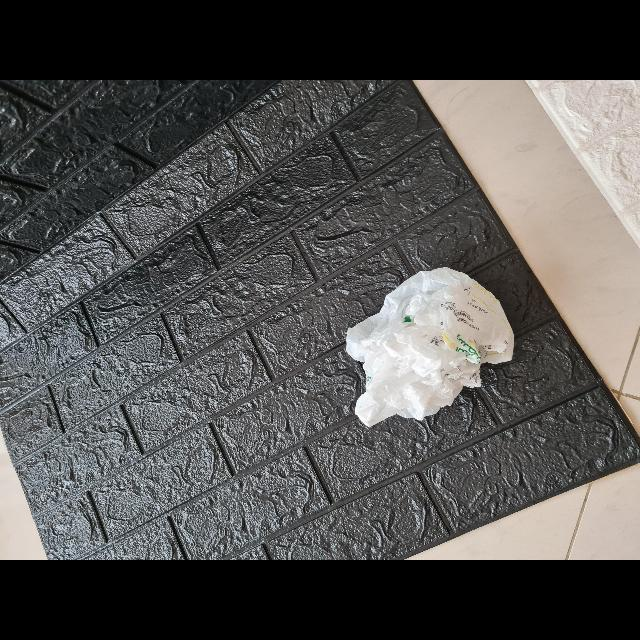sacola plástica: (344, 266, 518, 426)
